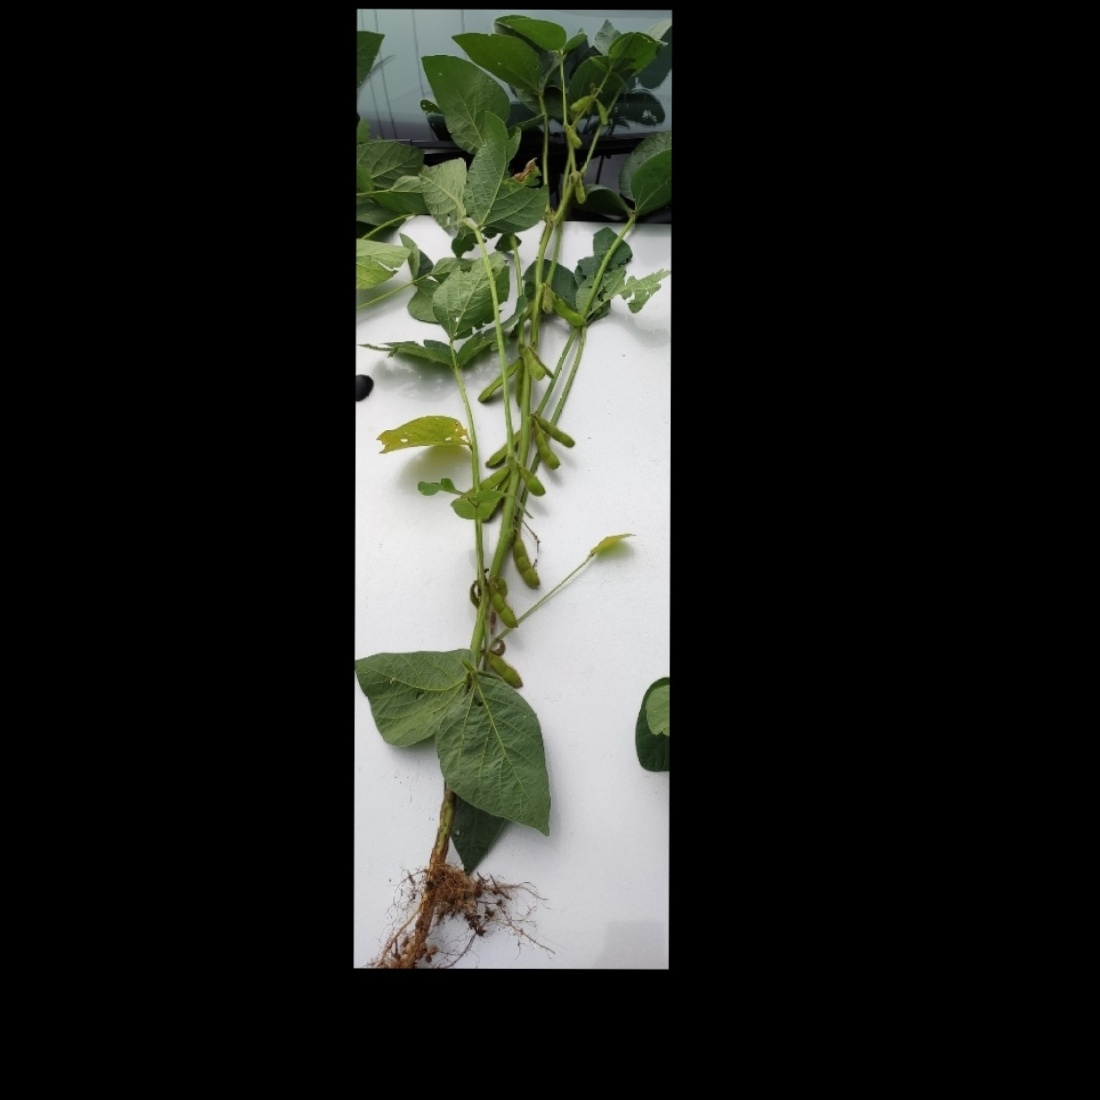pod: (510, 533, 545, 598), (474, 358, 522, 406), (483, 646, 534, 690), (535, 415, 580, 448), (538, 426, 569, 471), (491, 586, 520, 633), (551, 293, 585, 327), (516, 346, 545, 380), (571, 171, 589, 209), (567, 93, 597, 113), (563, 123, 585, 150), (594, 99, 612, 131), (540, 278, 553, 315)
soy: (362, 29, 658, 958)
